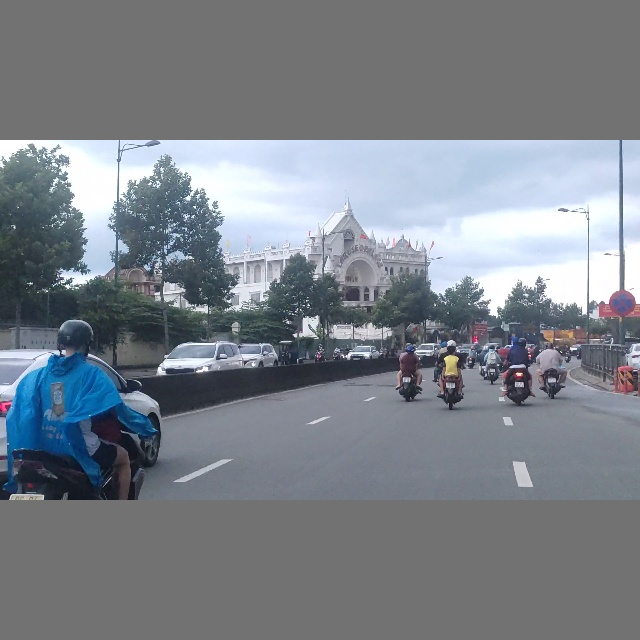P.130: (609, 290, 636, 316)
